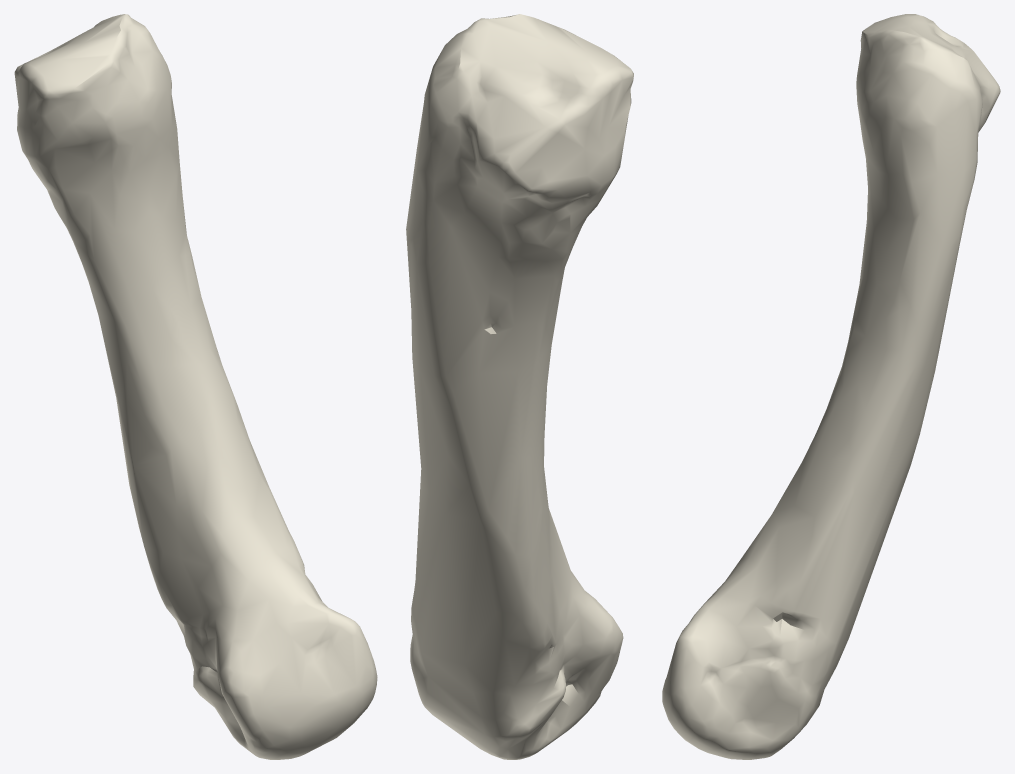
The model's file is fma24472.glb.
3 views of the same model, side by side, from view 1: azimuth 30°, elevation 25°; view 2: azimuth 150°, elevation 25°; view 3: azimuth 270°, elevation 25° (orthographic). The views are drawn at different scales.
Parts seen in each view (by area): view 1: FMA24472; view 2: FMA24472; view 3: FMA24472.
Boxes of the visible parts, x1=… form: FMA24472: x1=14, y1=14, x2=377, y2=759; FMA24472: x1=406, y1=14, x2=633, y2=759; FMA24472: x1=662, y1=14, x2=1000, y2=759.
Size of the model in its own units: 0.0204 by 0.0551 by 0.0247.
